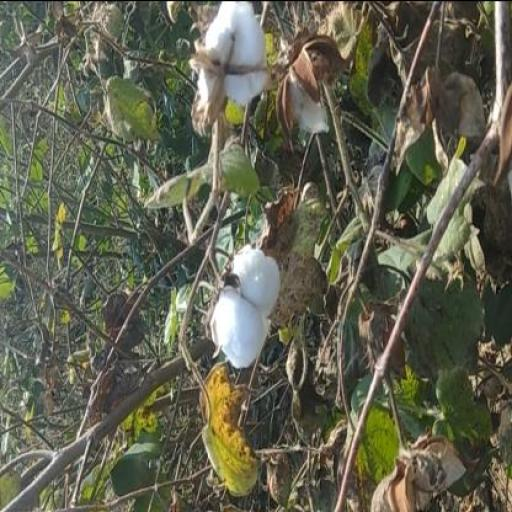cotton_ready: (208, 220, 286, 381), (198, 0, 271, 145)
